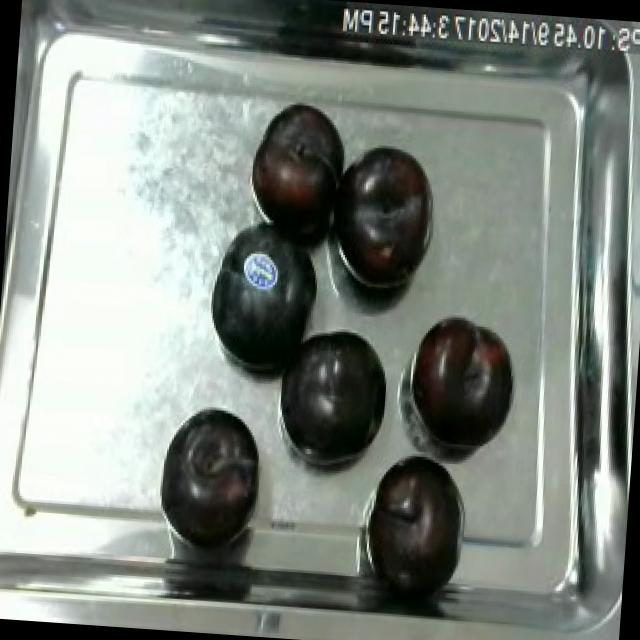Fruit: (196, 230, 326, 387), (268, 317, 396, 474), (327, 137, 442, 298), (401, 306, 523, 456), (150, 398, 266, 549), (360, 448, 471, 588), (244, 96, 351, 235)
